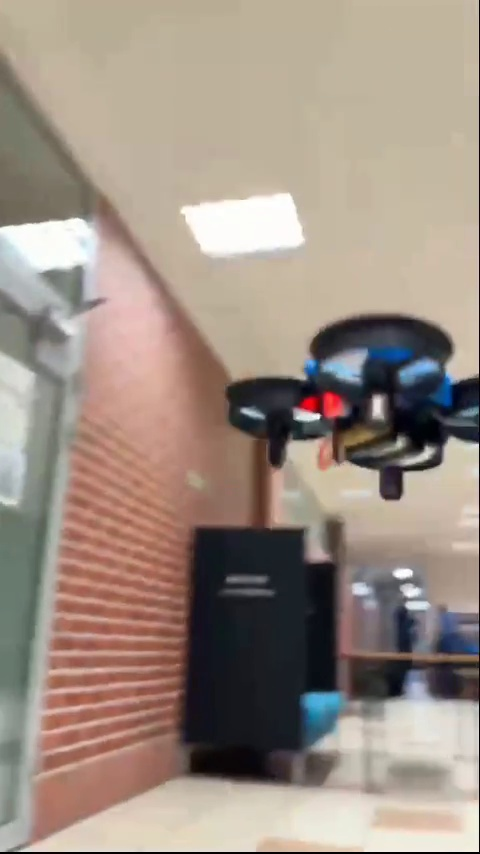drone: (222, 319, 480, 503)
no vest: (429, 600, 459, 648), (387, 598, 414, 648)
